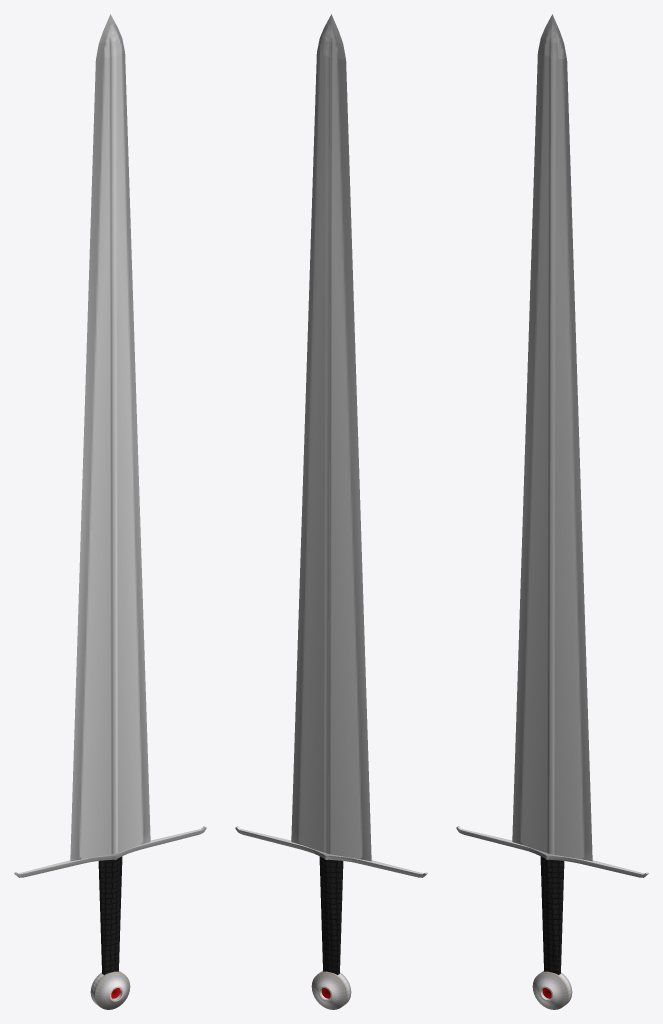
The model's file is swd.obj.
3 views of the same model, side by side, from view 1: azimuth 30°, elevation 25°; view 2: azimuth 150°, elevation 25°; view 3: azimuth 330°, elevation 25° (orthographic).
Parts seen in each view (by area): view 1: sword; view 2: sword; view 3: sword.
Part boxes in pixels (x1=…): sword: x1=14, y1=14, x2=206, y2=1009; sword: x1=235, y1=14, x2=427, y2=1009; sword: x1=456, y1=14, x2=648, y2=1009.
Bounding box in the file's own units: 52.2 × 260 × 6.
